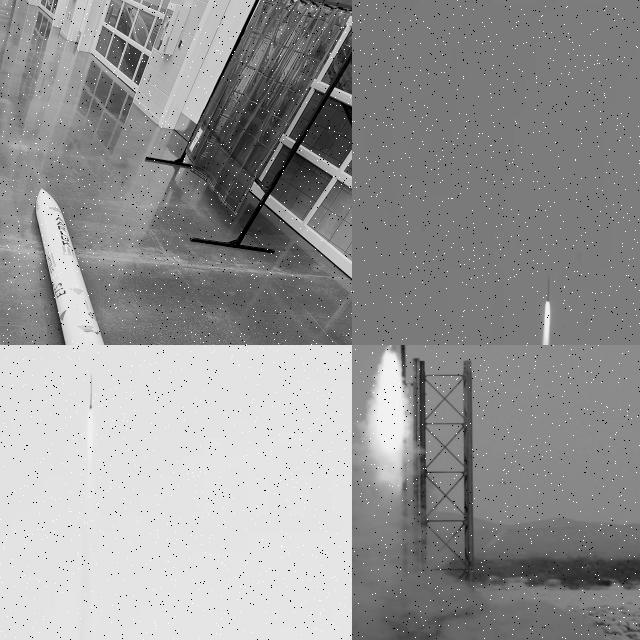Rocket: (34, 186, 105, 345), (89, 373, 94, 409), (545, 275, 551, 302)
